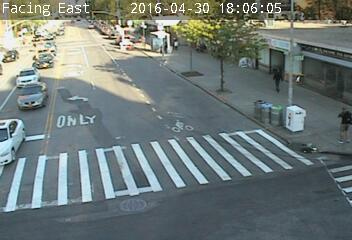neg: (267, 107, 301, 153), (17, 138, 51, 183), (65, 91, 95, 131), (259, 185, 288, 225), (127, 56, 156, 95), (187, 159, 212, 193), (187, 62, 212, 95), (25, 55, 49, 87), (247, 6, 271, 38), (115, 110, 135, 137), (177, 4, 195, 29)
